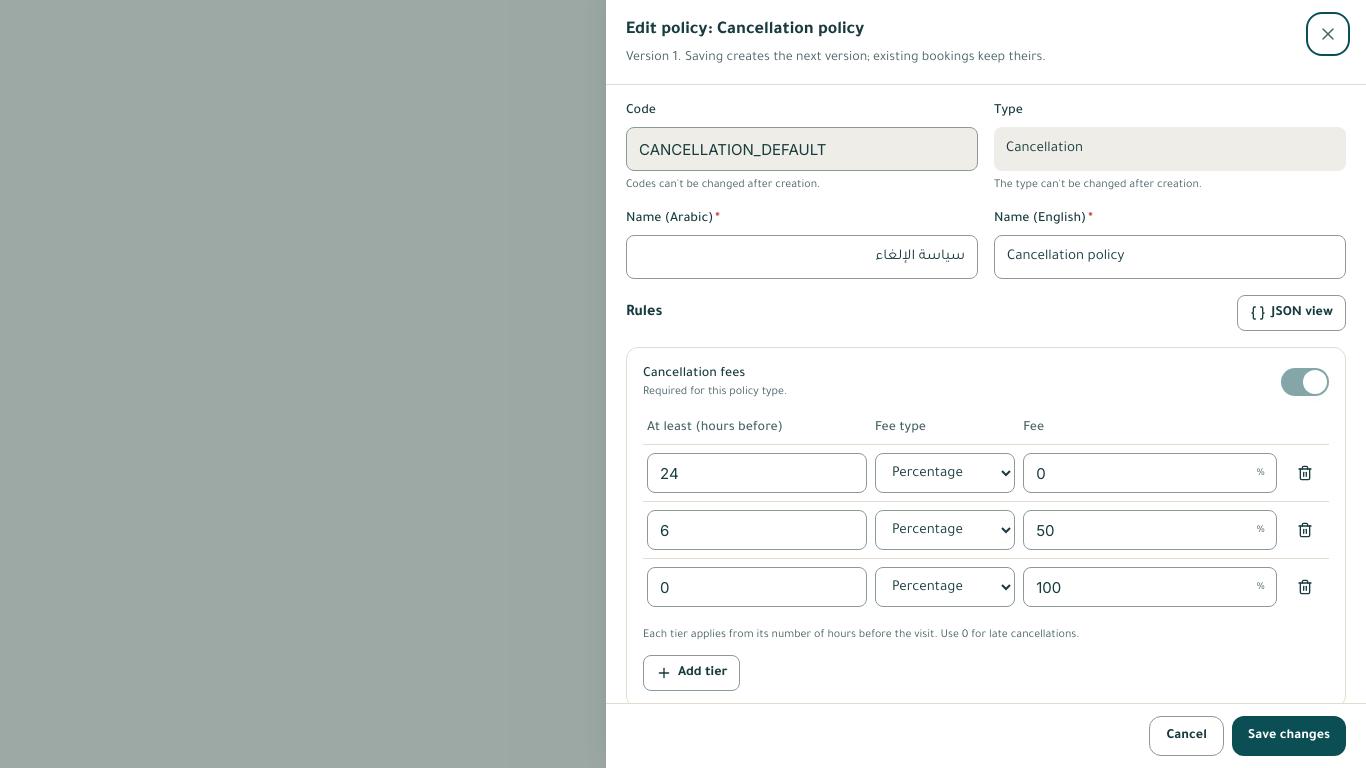
Scenario: A11 policy rules editor › checks tiers before saving and shows API rule errors on the matching field
The width and height of the screenshot is (1366, 768).
Replace the text in the field named "Tier 2: fee" with "120": point(1150, 530) [1023, 510, 1277, 550]
(page scrolled)
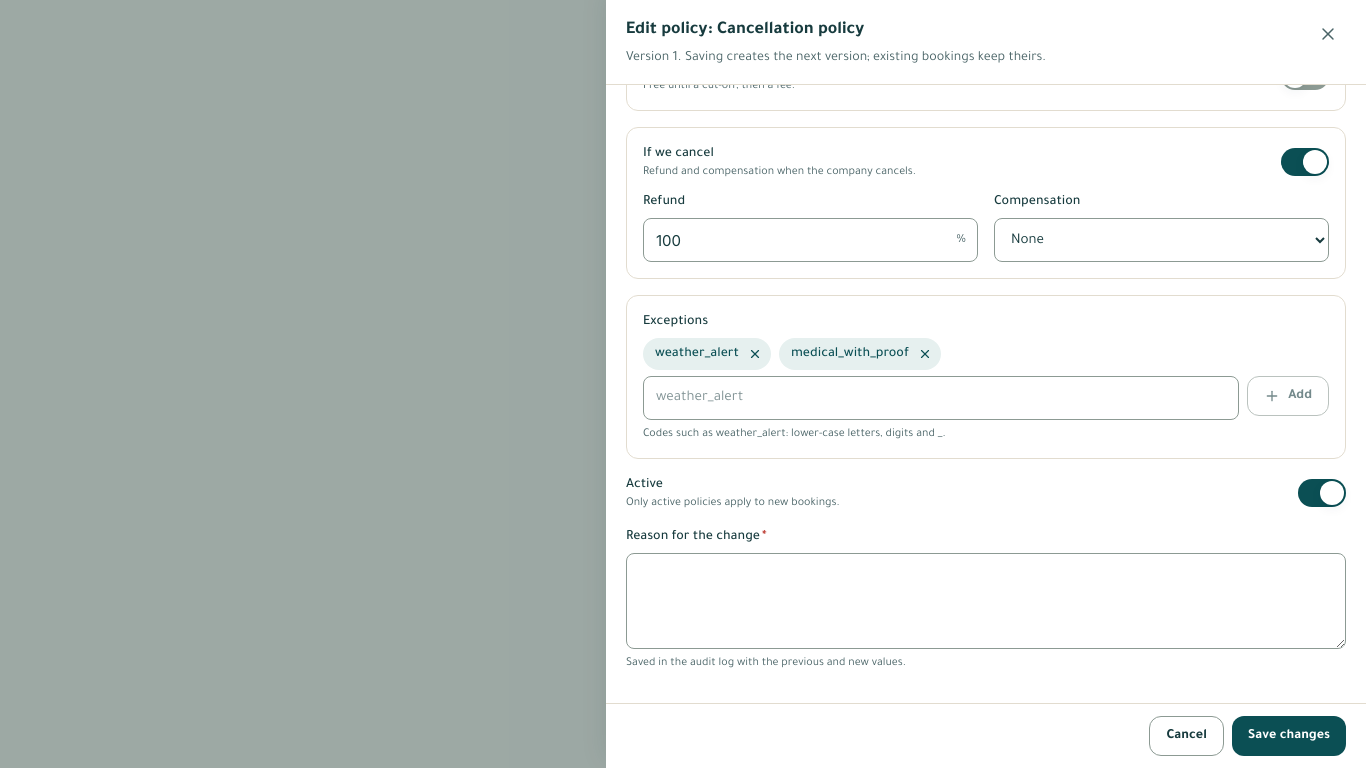
In the text box labelled "Reason for the change*": point(986, 601) [626, 553, 1346, 649], type "x"
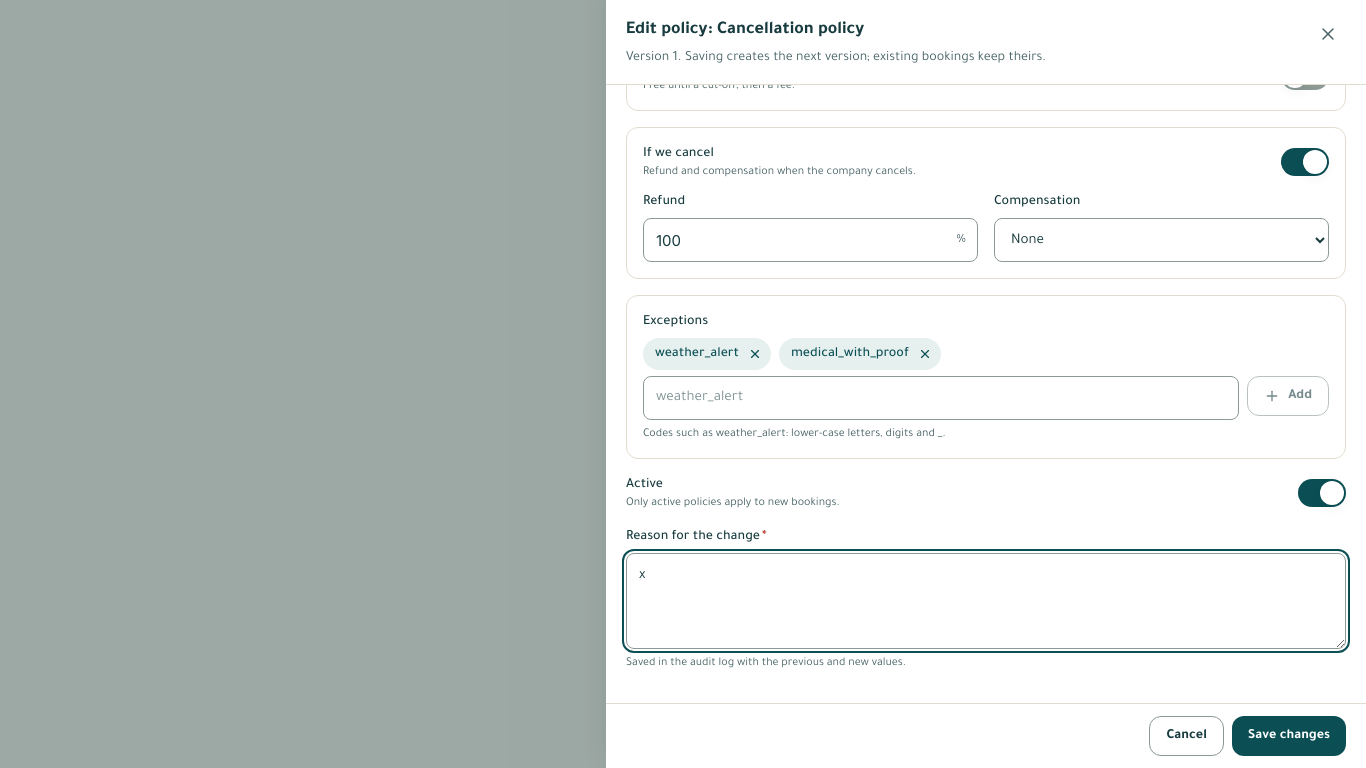
Click the button "Save changes": point(1289, 736) [1232, 716, 1346, 756]
(page scrolled)
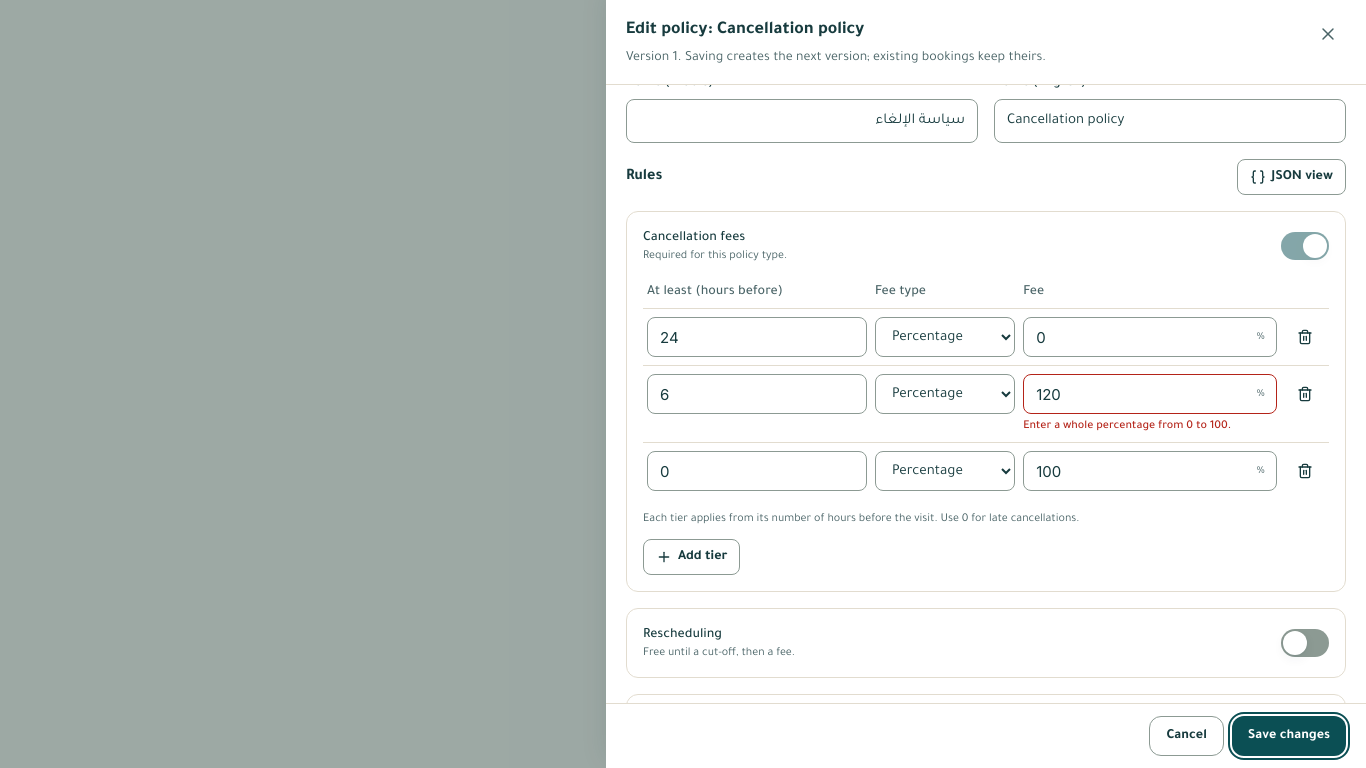
Expected: the text "Enter a whole percentage from 0 to 100." is shown, [1023, 420, 1231, 432]
Replace the text in the field named "Tier 2: fee" with "60": point(1150, 394) [1023, 374, 1277, 414]
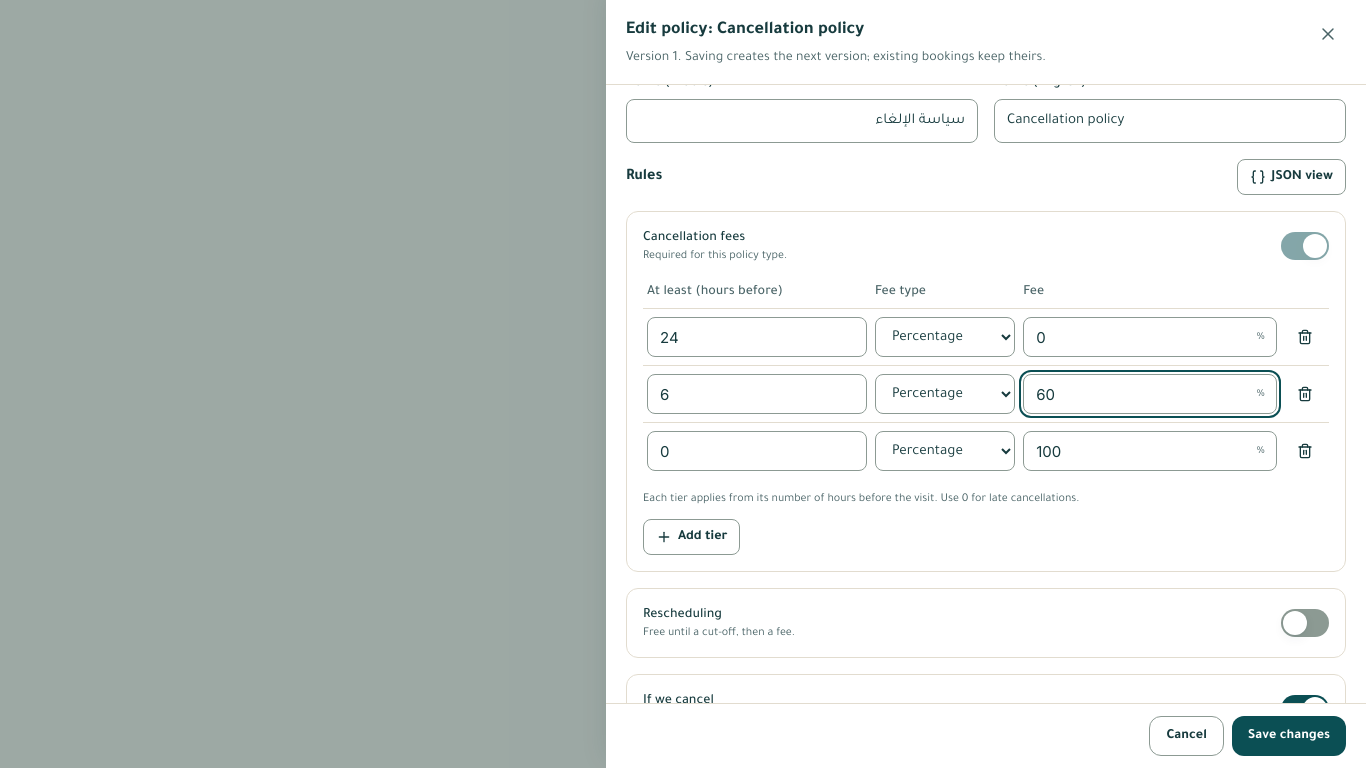
Click the button "Save changes": point(1289, 736) [1232, 716, 1346, 756]
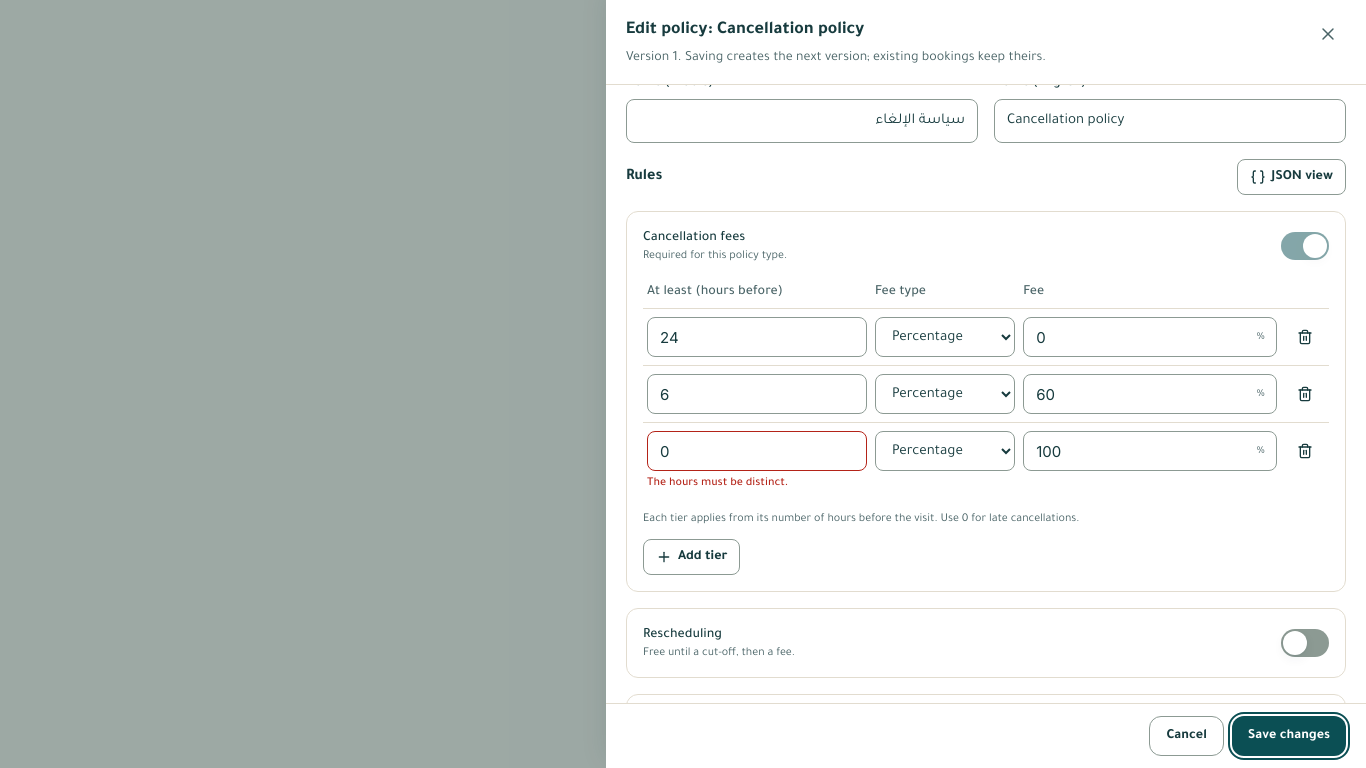
Expected: the text "The hours must be distinct." is shown, [647, 477, 788, 489]
